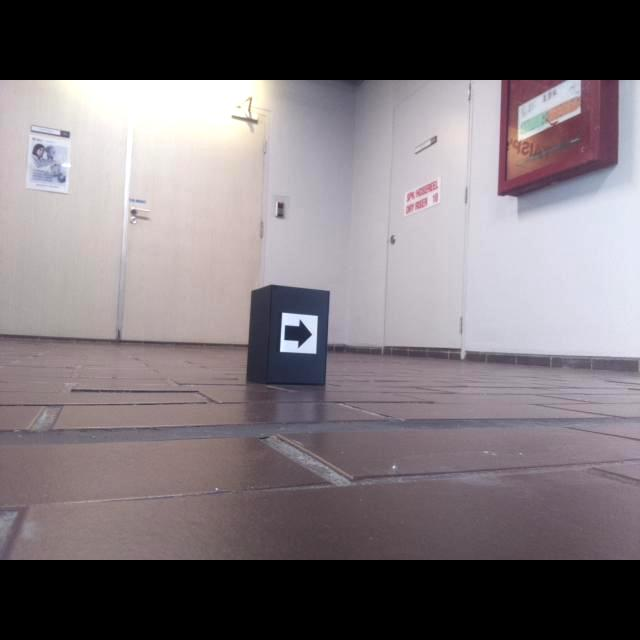RIGHT: (284, 318, 314, 349)
